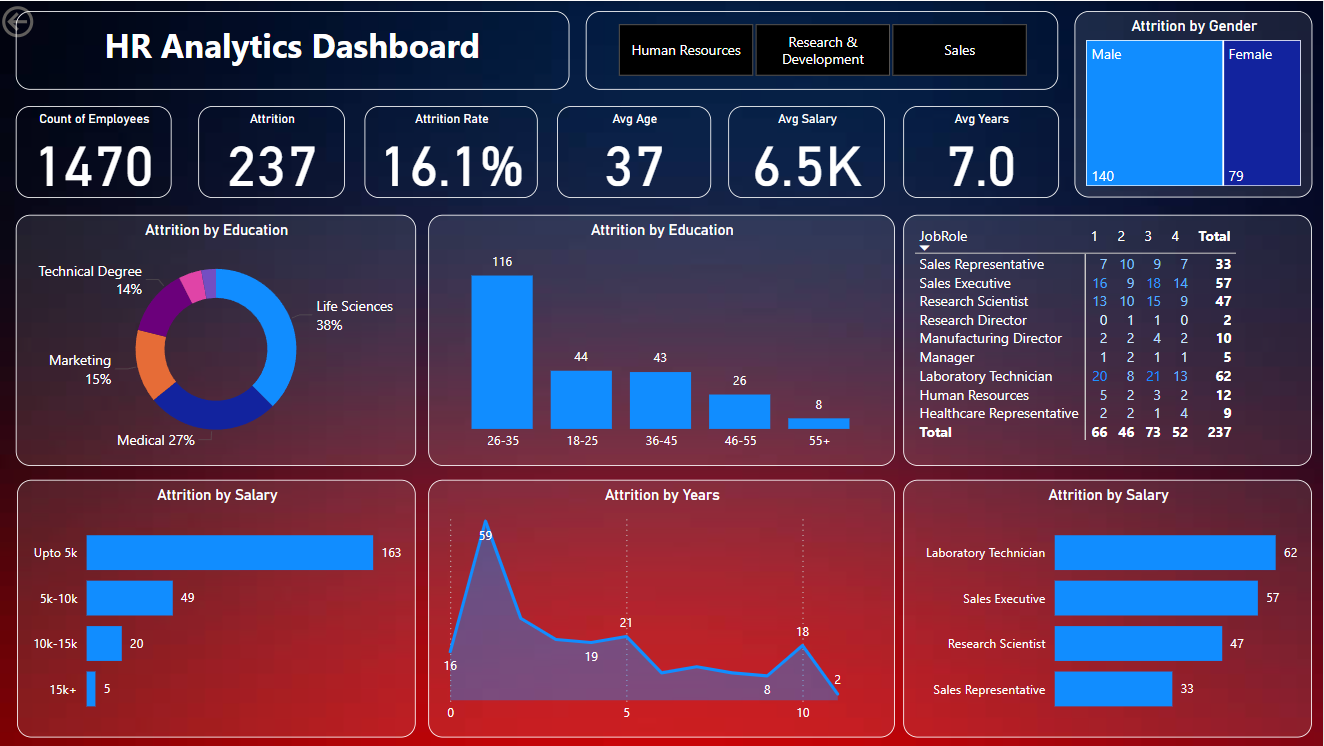

Layout of this report page (visuals, bound fields, positions):
{"tool":"powerbi","page":{"name":"Page 1","canvas":[1280,720],"ordinal":0},"visuals":[{"type":"card","title":"Count of Employees","fields":{"Values":["CountNonNull(HR_Analytics.EmpID)"]},"box":[18.6,101.4,150,88.6],"z":0},{"type":"card","title":"Attrition Rate","fields":{"Values":["HR_Analytics.Attrition_rate"]},"box":[354.3,101.4,167.1,88.6],"z":1000},{"type":"card","title":"Avg Age","fields":{"Values":["Avg(HR_Analytics.Age)"]},"box":[540,101.4,148.6,88.6],"z":2000},{"type":"card","title":"Attrition","fields":{"Values":["Sum(HR_Analytics.AttritionCount)"]},"box":[194.3,101.4,141.4,88.6],"z":3000},{"type":"card","title":"Avg Salary ","fields":{"Values":["Avg(HR_Analytics.MonthlyIncome)"]},"box":[705.7,101.4,151.4,88.6],"z":4000},{"type":"card","title":"Avg Years","fields":{"Values":["Avg(HR_Analytics.YearsAtCompany)"]},"box":[874.3,101.4,150,88.6],"z":5000},{"type":"donutChart","title":"Attrition by Education","fields":{"Category":["HR_Analytics.EducationField"],"Y":["Sum(HR_Analytics.AttritionCount)"]},"box":[18.1,206.3,386.1,242.5],"z":6000},{"type":"columnChart","title":"Attrition by Education","fields":{"Category":["HR_Analytics.AgeGroup"],"Y":["Sum(HR_Analytics.AttritionCount)"]},"box":[416.2,206.3,450,242.5],"z":7000},{"type":"pivotTable","fields":{"Values":["Sum(HR_Analytics.AttritionCount)"],"Rows":["HR_Analytics.JobRole"],"Columns":["HR_Analytics.JobSatisfaction"]},"box":[874.7,206.3,394.5,242.5],"z":8000},{"type":"actionButton","box":[0,0,100,40],"z":9000},{"type":"barChart","title":"Attrition by Salary","fields":{"Category":["HR_Analytics.SalarySlab"],"Y":["Sum(HR_Analytics.AttritionCount)"]},"box":[19.3,462.1,384.9,248.5],"z":10000},{"type":"barChart","title":"Attrition by Salary","fields":{"Category":["HR_Analytics.JobRole"],"Y":["Sum(HR_Analytics.AttritionCount)"]},"box":[874.7,462.1,394.5,248.5],"z":11000},{"type":"areaChart","title":"Attrition by Years","fields":{"Category":["HR_Analytics.YearsAtCompany"],"Y":["Sum(HR_Analytics.AttritionCount)"]},"box":[416.2,462.1,450,248.5],"z":12000},{"type":"treemap","title":"Attrition by Gender","fields":{"Group":["HR_Analytics.Gender"],"Values":["Sum(HR_Analytics.AttritionCount)"]},"box":[1040,9.7,229.2,179.8],"z":13000},{"type":"slicer","fields":{"Values":["HR_Analytics.Department"]},"box":[568.6,10,455.7,75.7],"z":14000},{"type":"textbox","box":[18.6,10,534.3,75.7],"z":15000}]}

Visuals, with their boxes in screenshot pixels (x1, y1, x2, y2), scaled from the page's 1280x720 canvas onto the 1324x746 screenshot:
"Count of Employees" card: (x1=19, y1=105, x2=174, y2=197)
"Attrition Rate" card: (x1=366, y1=105, x2=539, y2=197)
"Avg Age" card: (x1=559, y1=105, x2=712, y2=197)
"Attrition" card: (x1=201, y1=105, x2=347, y2=197)
"Avg Salary " card: (x1=730, y1=105, x2=887, y2=197)
"Avg Years" card: (x1=904, y1=105, x2=1060, y2=197)
"Attrition by Education" donutChart: (x1=19, y1=214, x2=418, y2=465)
"Attrition by Education" columnChart: (x1=431, y1=214, x2=896, y2=465)
pivotTable - Sum(HR_Analytics.AttritionCount) x HR_Analytics.JobRole: (x1=905, y1=214, x2=1313, y2=465)
actionButton: (x1=0, y1=0, x2=103, y2=41)
"Attrition by Salary" barChart: (x1=20, y1=479, x2=418, y2=736)
"Attrition by Salary" barChart: (x1=905, y1=479, x2=1313, y2=736)
"Attrition by Years" areaChart: (x1=431, y1=479, x2=896, y2=736)
"Attrition by Gender" treemap: (x1=1076, y1=10, x2=1313, y2=196)
slicer - HR_Analytics.Department: (x1=588, y1=10, x2=1060, y2=89)
textbox: (x1=19, y1=10, x2=572, y2=89)
